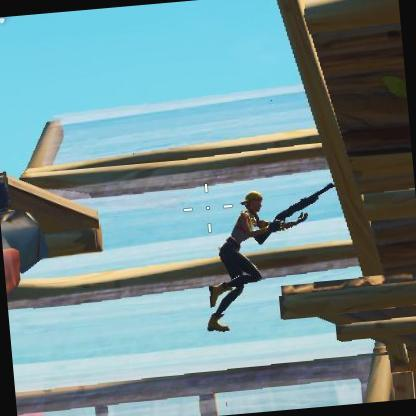person: (212, 188, 291, 286)
